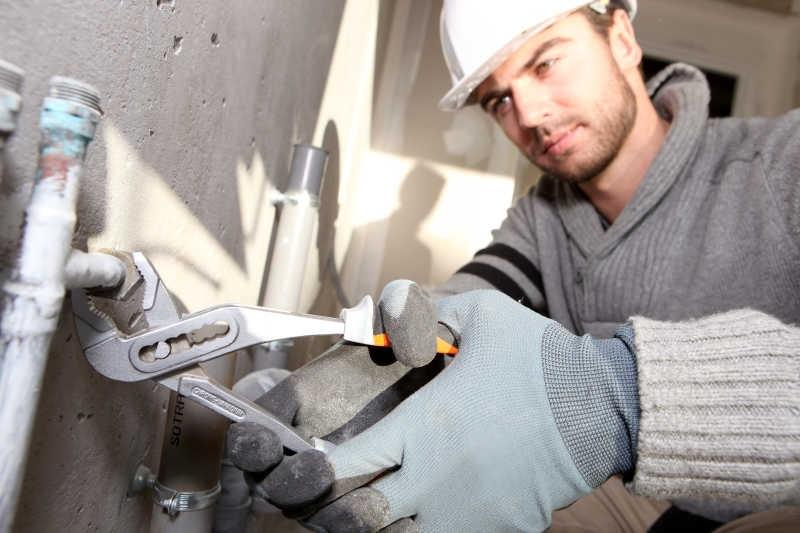helmet: (432, 1, 655, 116)
no_wear: (504, 164, 800, 315)
